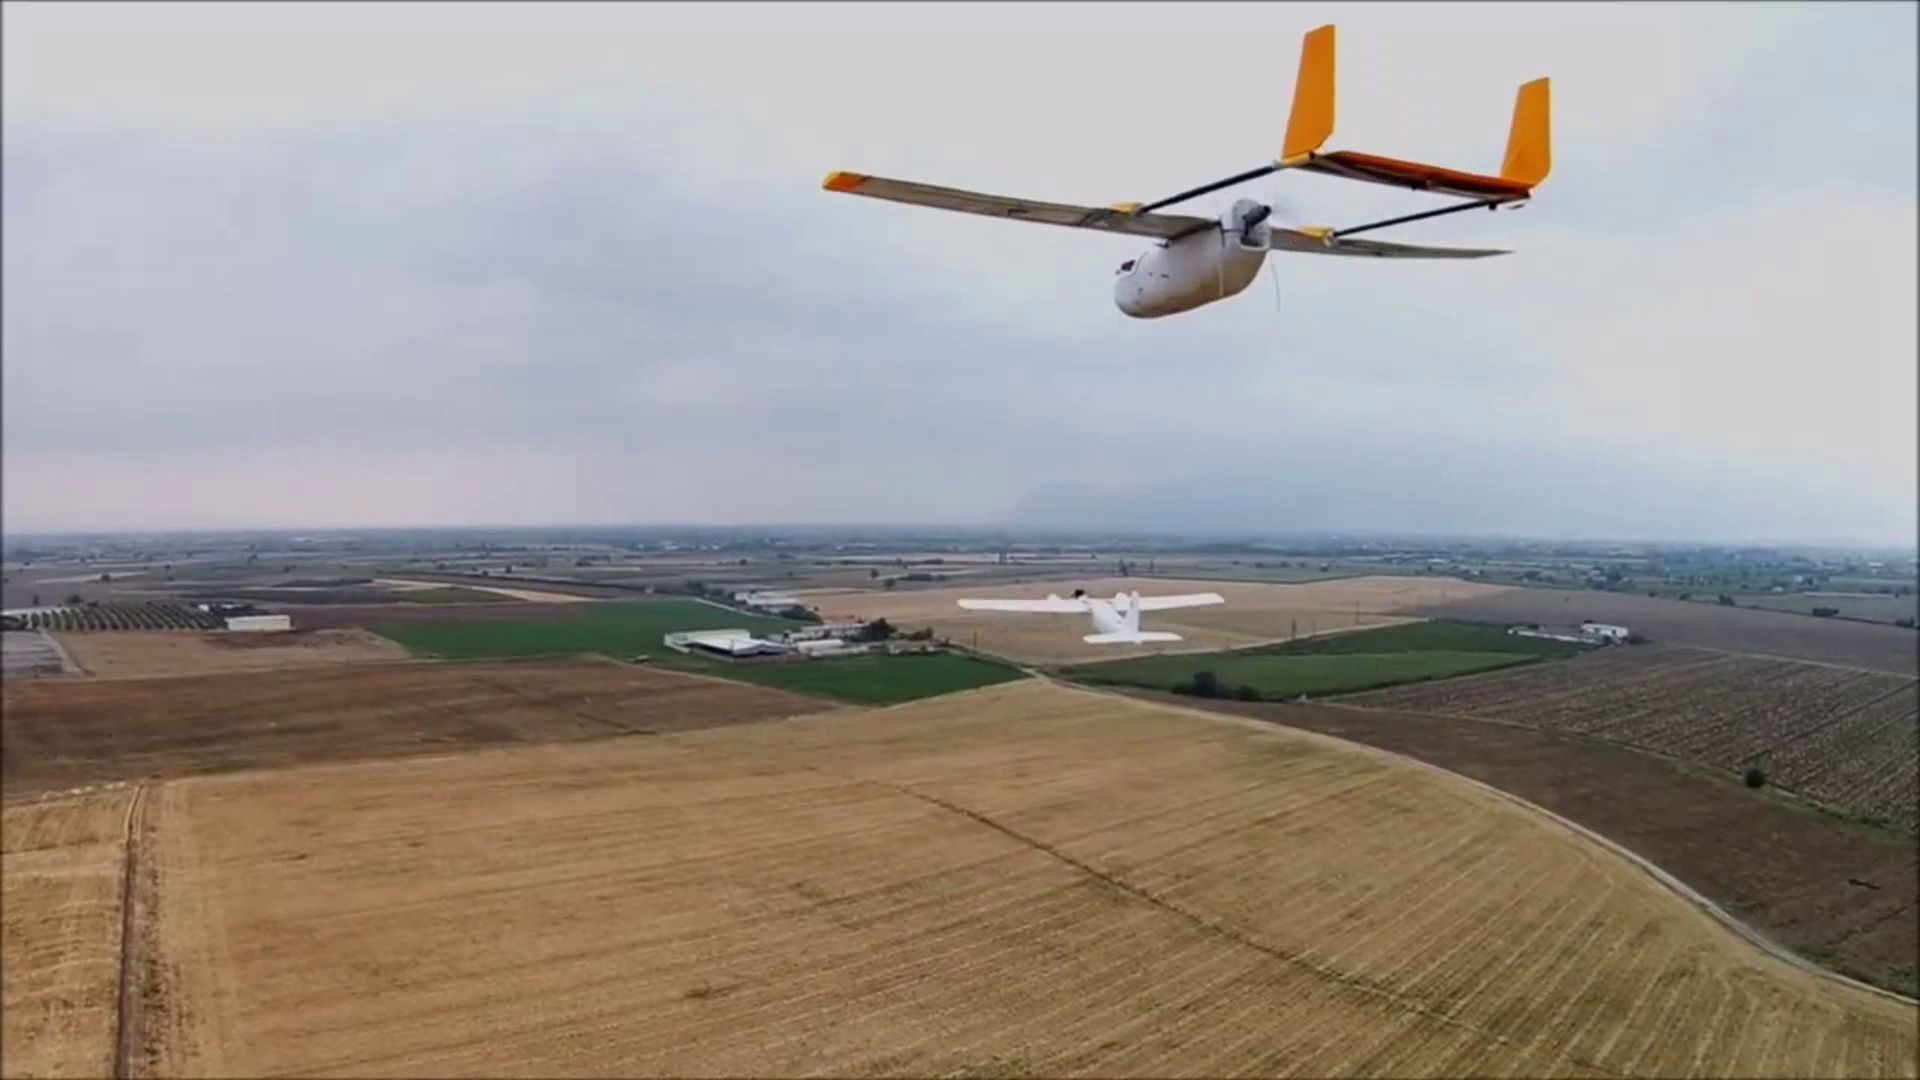airplane: (823, 25, 1553, 323)
